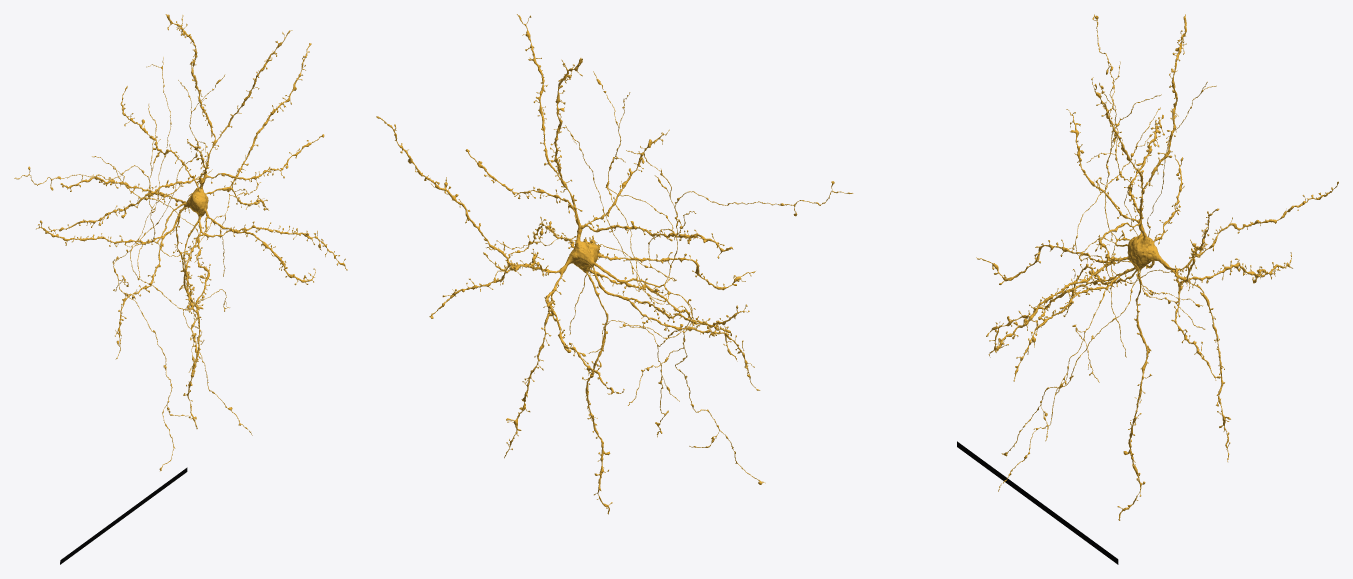
File: 250922_msn_example.glb
3 views of the same model, side by side, from view 1: azimuth 30°, elevation 25°; view 2: azimuth 150°, elevation 25°; view 3: azimuth 270°, elevation 25° (orthographic). The views are drawn at different scales.
Visible parts, largest first — view 1: 1340425305_msn_onlyGPi, scale_bar_100µm; view 2: 1340425305_msn_onlyGPi; view 3: 1340425305_msn_onlyGPi, scale_bar_100µm.
Part boxes in pixels (x1,y1,x2,y2): 1340425305_msn_onlyGPi: [14, 14, 347, 471]; scale_bar_100µm: [60, 467, 187, 564]; 1340425305_msn_onlyGPi: [376, 14, 853, 514]; 1340425305_msn_onlyGPi: [976, 14, 1338, 520]; scale_bar_100µm: [957, 441, 1118, 564].
Size of the model in its own units: 1.61 by 1.9 by 1.19.
